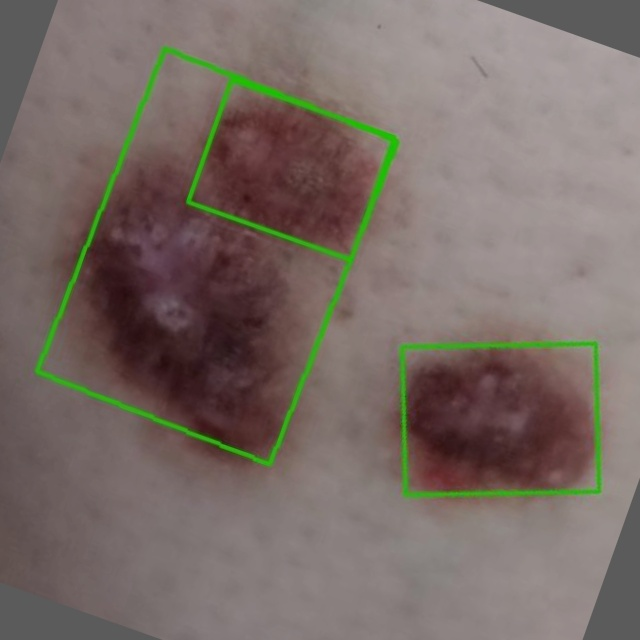Eczema: (35, 49, 396, 464), (188, 79, 394, 259), (401, 343, 598, 495)
